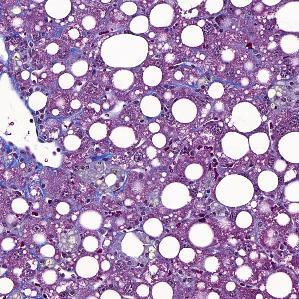fibrosis: (63, 148, 132, 201)
